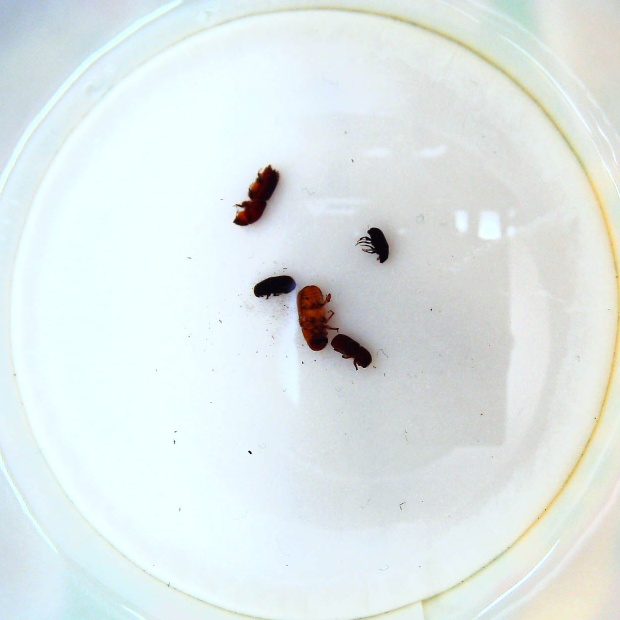armandi: (248, 274, 299, 299)
boerner: (231, 161, 283, 229)
coleoptera: (355, 224, 393, 266)
leconte: (292, 282, 340, 352)
linnaeus: (328, 332, 372, 373)
